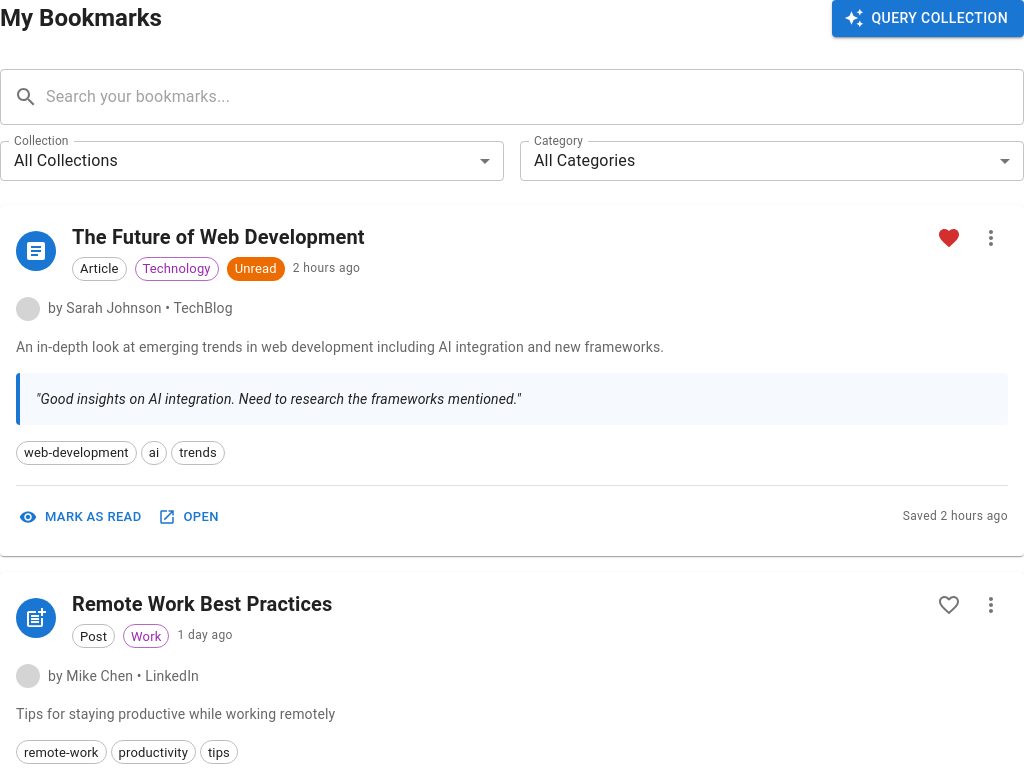
Test: MyCollectionPage › opens query dialog when Query Collection button is clicked
Click the button "Query Collection". click: (928, 18)
box: [832, 0, 1023, 36]
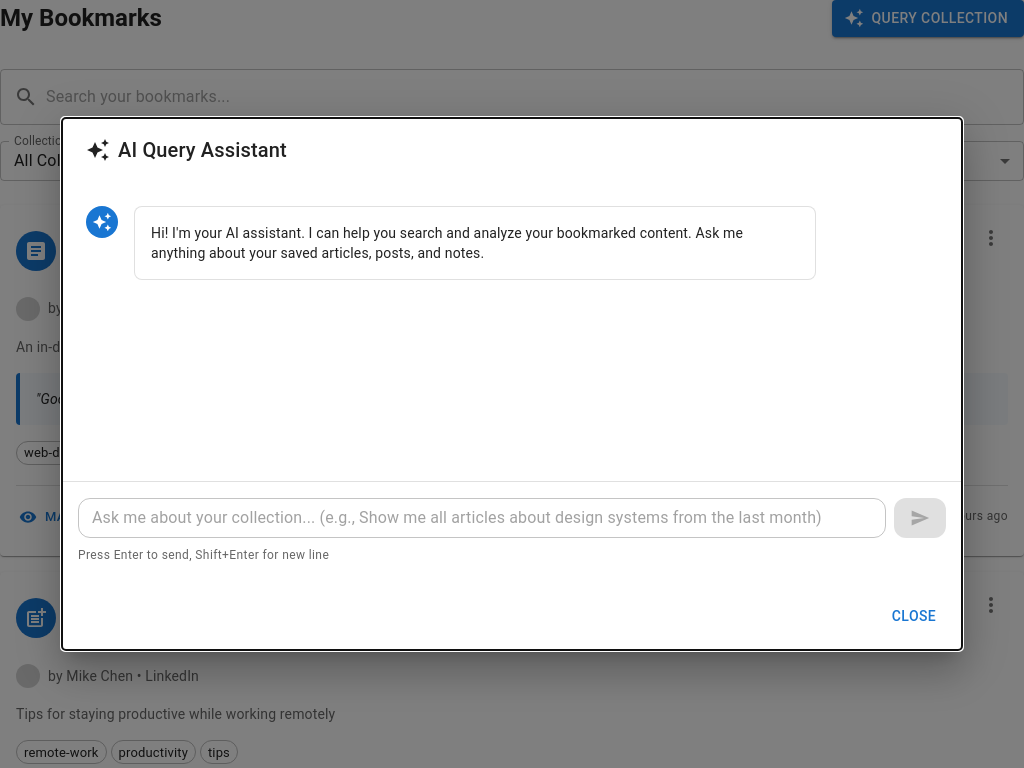
Expected: the text "AI Query Assistant" is shown, [86, 138, 287, 162]
Expected: the text box with placeholder "Ask me about your collection" is shown, [92, 506, 872, 529]
